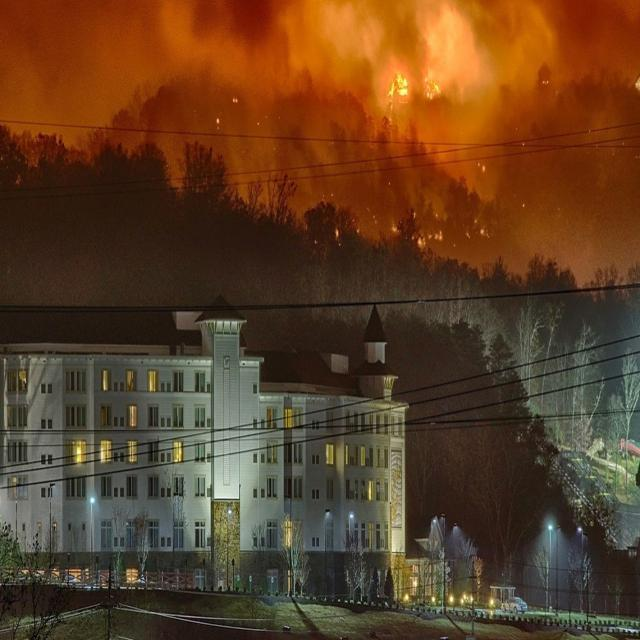Fire: (386, 71, 409, 99), (416, 228, 444, 248), (424, 77, 441, 100)
Smoke: (0, 1, 640, 295)
